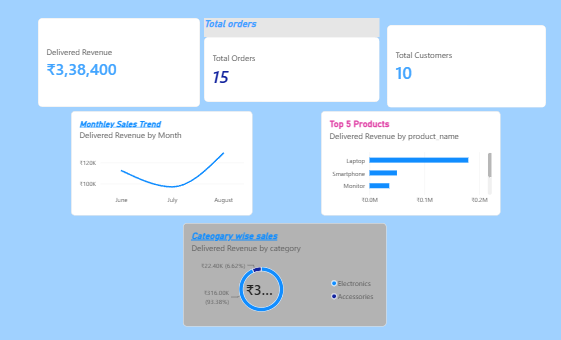

The page's visual inventory and layout, read from the dashboard file:
{"tool":"powerbi","page":{"name":"Page 1","canvas":[1920,1080],"ordinal":0},"visuals":[{"type":"cardVisual","fields":{"Data":["retail_sales_portfolio order_items.Delivered Revenue"]},"box":[102.9,38.6,324.3,178.6],"z":2},{"type":"cardVisual","title":"Total orders","fields":{"Data":["retail_sales_portfolio customers.Total Orders"]},"box":[434.3,38.6,351.4,168.6],"z":5},{"type":"cardVisual","fields":{"Data":["retail_sales_portfolio customers.Total Customers"]},"box":[800,51.4,318.6,165.7],"z":6},{"type":"lineChart","title":"Monthley Sales Trend","fields":{"Category":["retail_sales_portfolio orders.order_date.Variation.Date Hierarchy.Year","retail_sales_portfolio orders.order_date.Variation.Date Hierarchy.Quarter","retail_sales_portfolio orders.order_date.Variation.Date Hierarchy.Month","retail_sales_portfolio orders.order_date.Variation.Date Hierarchy.Day"],"Y":["retail_sales_portfolio order_items.Delivered Revenue"]},"box":[168.6,224.3,362.9,208.6],"z":7},{"type":"clusteredBarChart","title":"Top 5 Products","fields":{"Category":["retail_sales_portfolio products.product_name"],"Y":["retail_sales_portfolio order_items.Delivered Revenue"]},"box":[668.6,224.3,358.6,208.6],"z":8},{"type":"donutChart","title":"Cateogary wise sales","fields":{"Category":["retail_sales_portfolio products.category"],"Y":["retail_sales_portfolio order_items.Delivered Revenue"]},"box":[392.9,448.6,407.1,207.1],"z":9}]}

Visuals, with their boxes on the page's 1920x1080 design canvas (x1, y1, x2, y2). These are canvas units, not pixel positions in the 561x340 screenshot, which may show the page scaled, cropped or inside an application window:
cardVisual - retail_sales_portfolio order_items.Delivered Revenue: [103, 39, 427, 217]
"Total orders" cardVisual: [434, 39, 786, 207]
cardVisual - retail_sales_portfolio customers.Total Customers: [800, 51, 1119, 217]
"Monthley Sales Trend" lineChart: [169, 224, 532, 433]
"Top 5 Products" clusteredBarChart: [669, 224, 1027, 433]
"Cateogary wise sales" donutChart: [393, 449, 800, 656]
